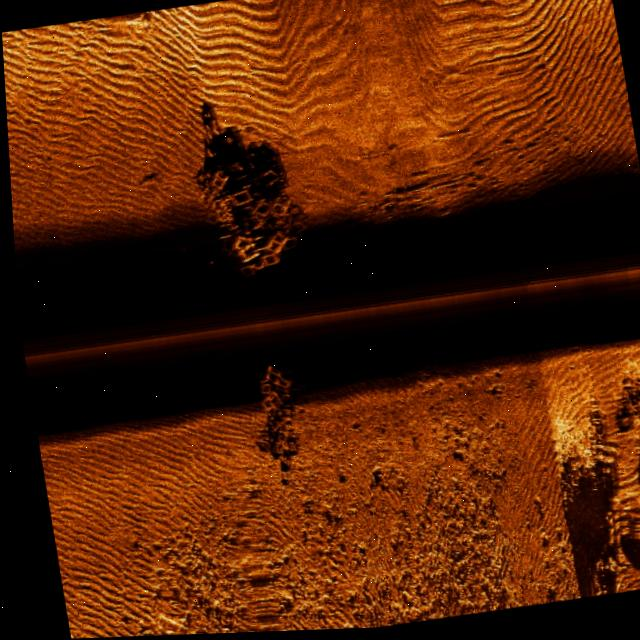artificial reef: (172, 150, 316, 289), (237, 359, 307, 460)
